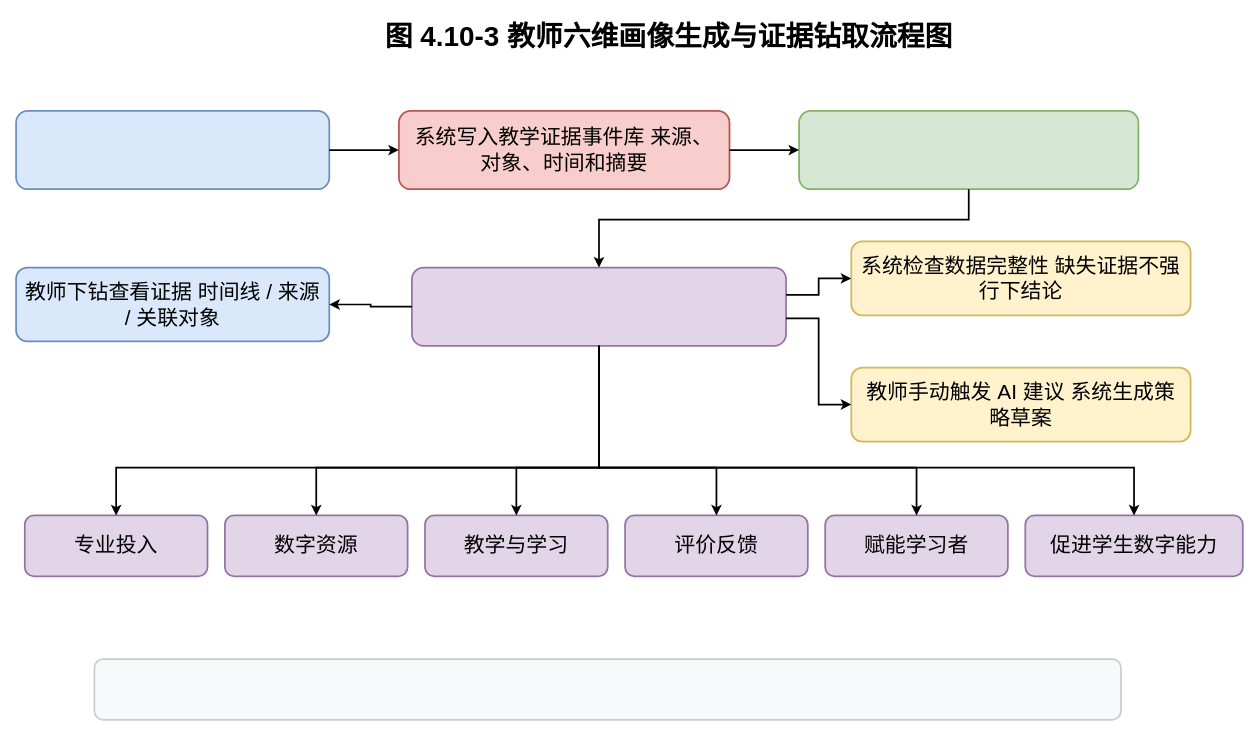
Image size: 1258x735. Some labels were removed from this diagram. The shapes that lost their labels are listed below. From the top down, each one's centre as x and y in pixels, then its label:
point 172,150: 系统采集教学证据 登录 / 互动 / 教研 / 批改 / 干预
point 968,150: 教师画像服务聚合证据 按教师和时间窗口计算
point 598,306: 系统生成教师六维画像 六个维度并列呈现
point 607,689: 说明：教师数字孪生评价教师教学支持过程，不直接用学生成绩评价教师个人；学生结果只作为反馈信号之一。
